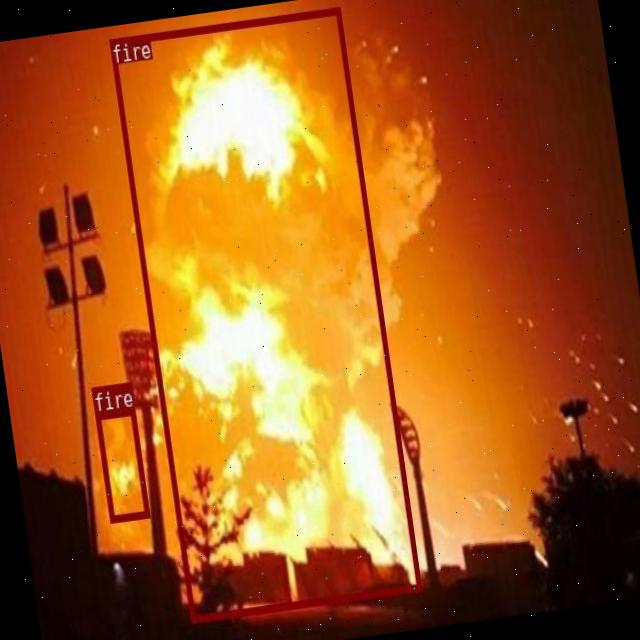fire: (108, 6, 420, 621), (94, 406, 150, 521)
